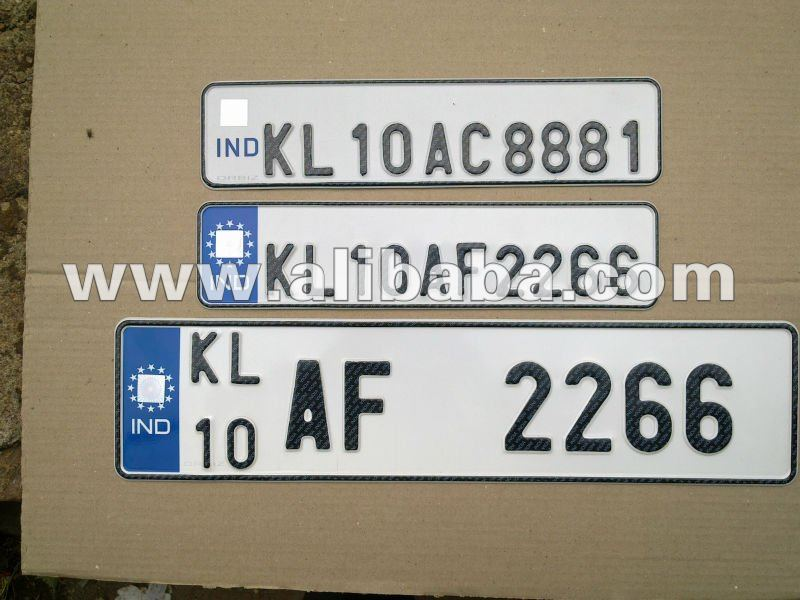inlp: (111, 307, 798, 488), (183, 194, 673, 316), (188, 77, 678, 193)
